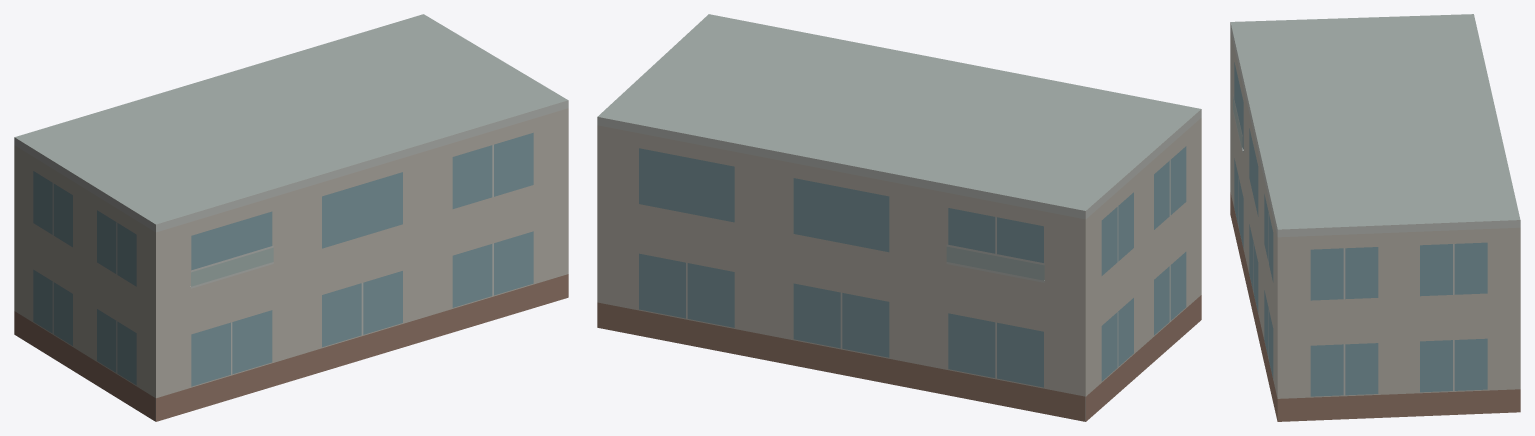
Rendered from survey-upis-32619317.glb.
3 views of the same model, side by side, from view 1: azimuth 30°, elevation 25°; view 2: azimuth 150°, elevation 25°; view 3: azimuth 270°, elevation 25° (orthographic). The views are drawn at different scales.
Parts seen in each view (by area): view 1: survey-upis-32619317.tmp; view 2: survey-upis-32619317.tmp; view 3: survey-upis-32619317.tmp.
Boxes of the visible parts, <box> form: survey-upis-32619317.tmp: <box>14,14,568,421</box>; survey-upis-32619317.tmp: <box>597,14,1201,421</box>; survey-upis-32619317.tmp: <box>1230,14,1520,421</box>.
Size of the model in its own units: 14.68 by 6.1 by 8.35.
